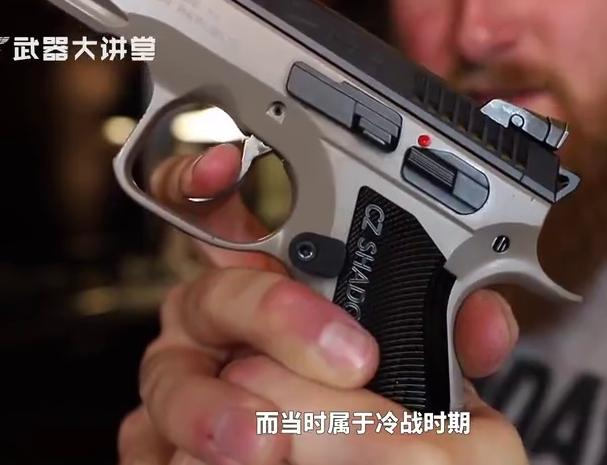gun: (1, 0, 607, 465)
